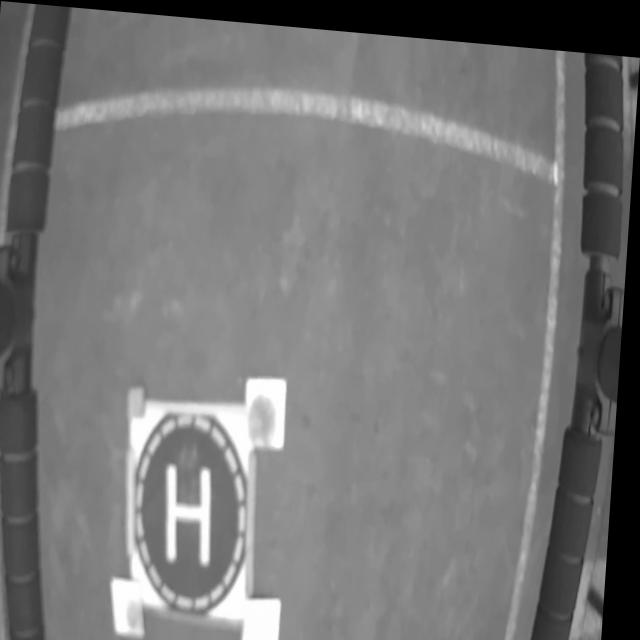Helipad: (172, 458, 217, 559)
